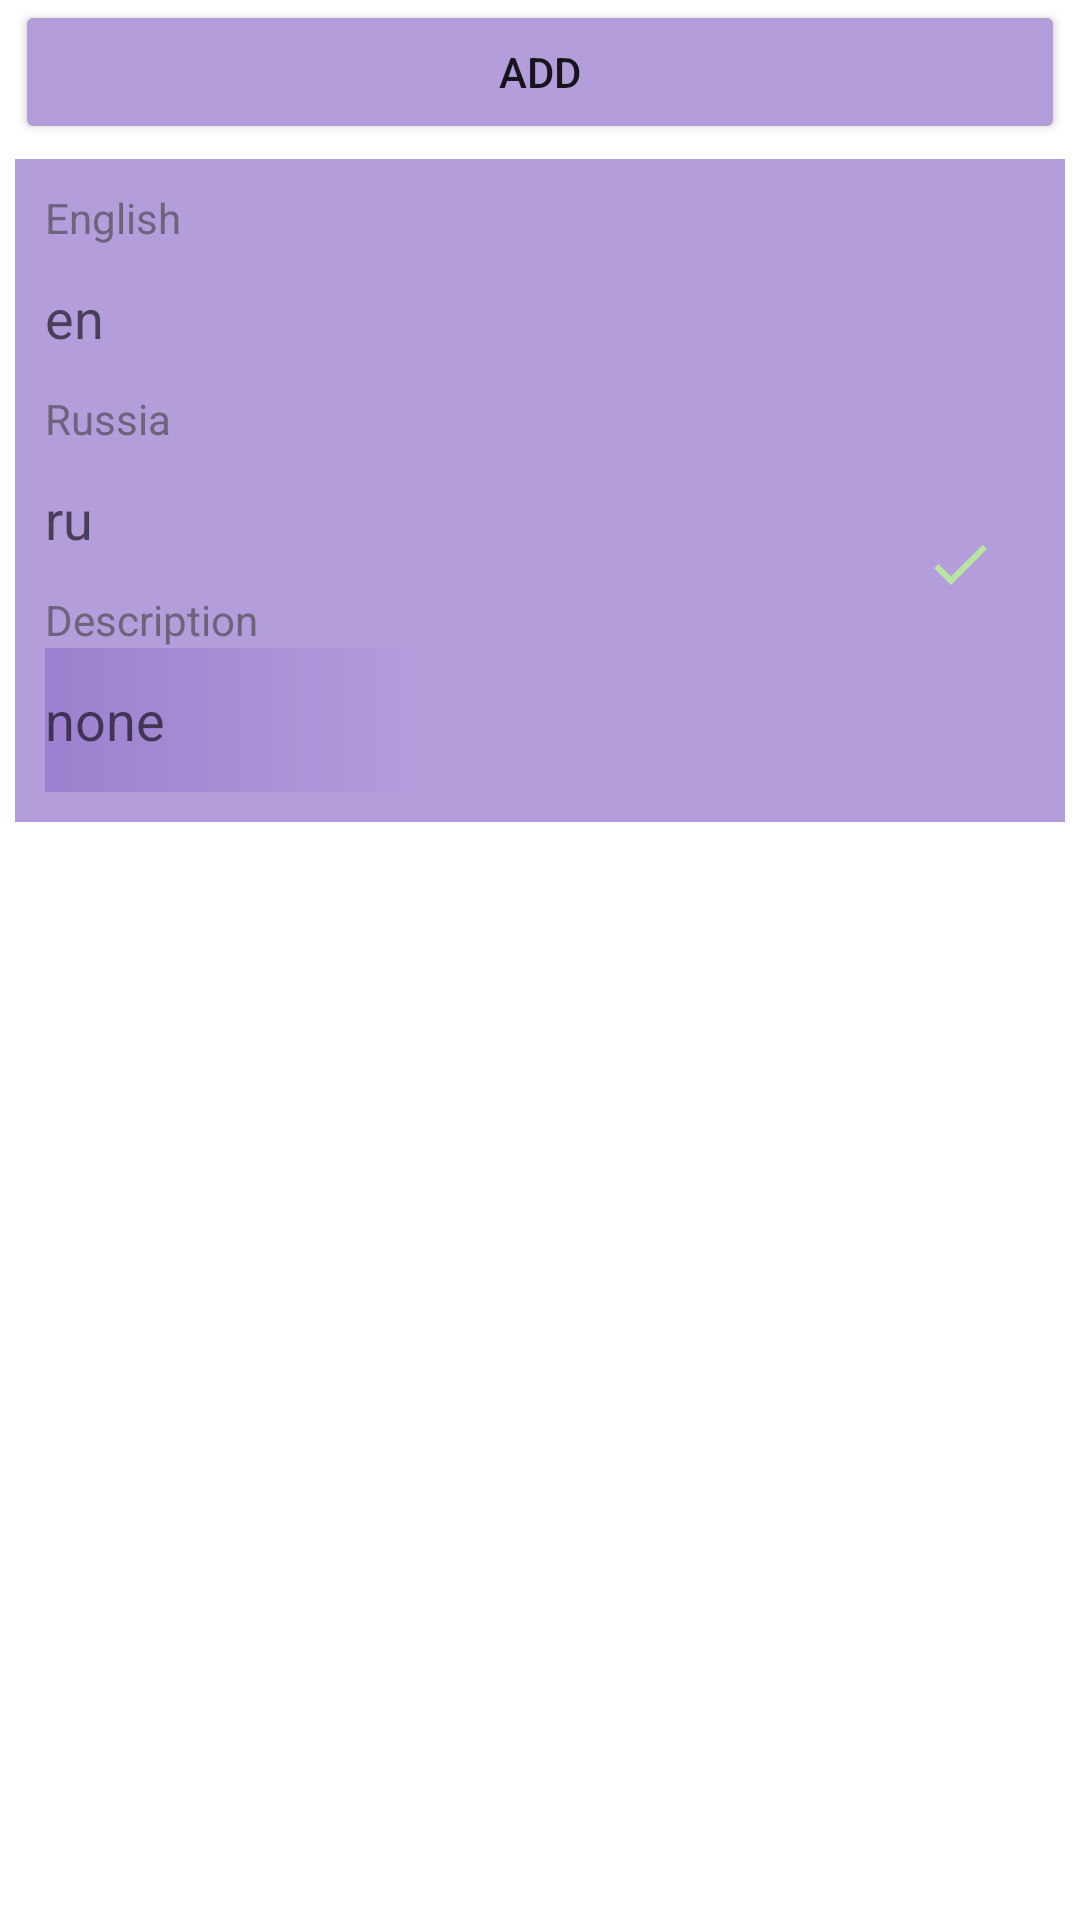

Icon bounding boxes for this 1080w x 1920h phone screenshot, format {"left": x1, "top": y1, "right": x2, "bottom": y2}:
done: {"left": 934, "top": 545, "right": 987, "bottom": 585}
